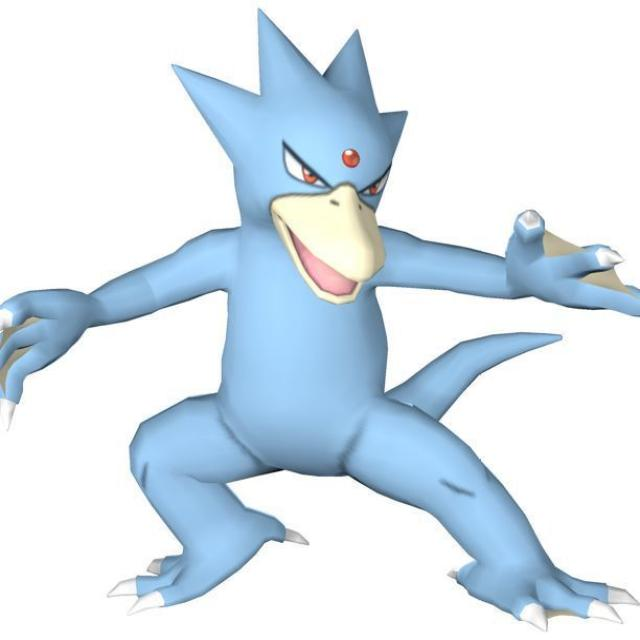Golduck: (130, 43, 566, 560)
